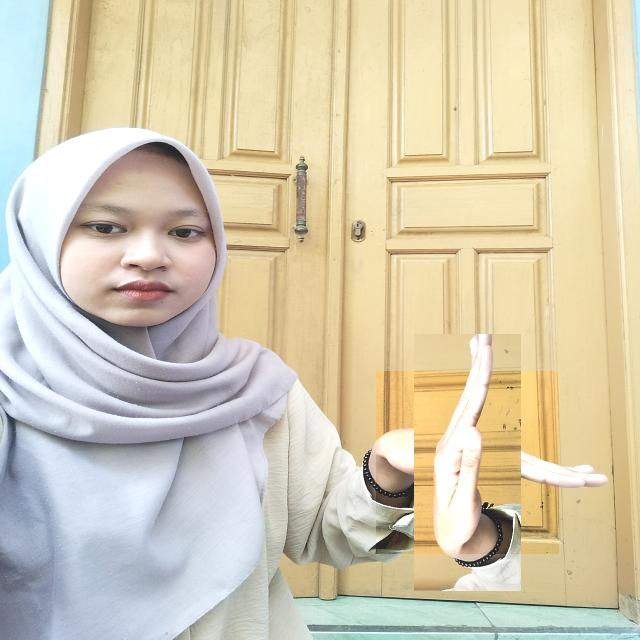adik: (376, 371, 559, 554)
